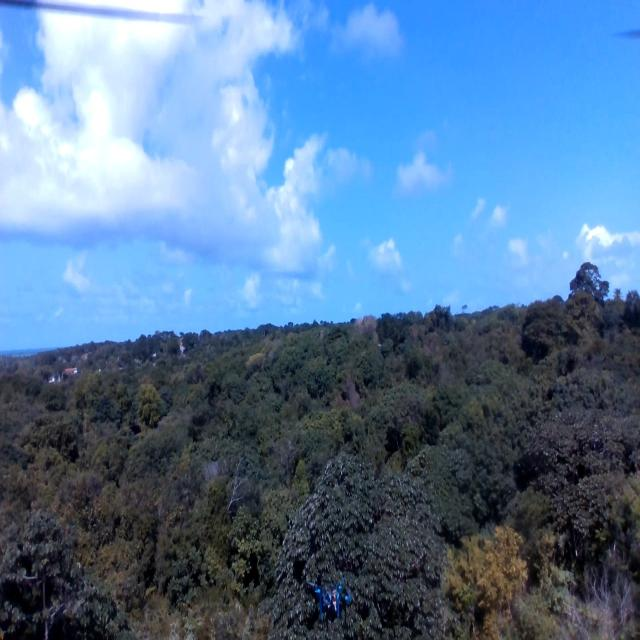-uav-: (308, 578, 352, 624)
